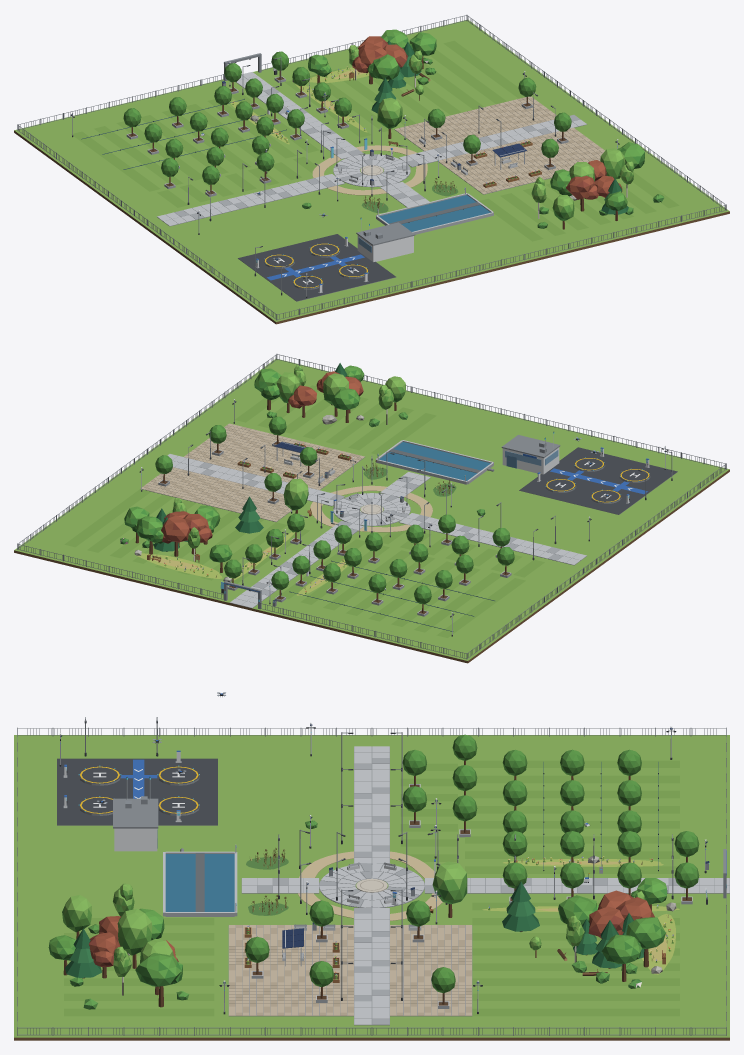
File: Park_Level3_EfficiencySkewed.fbx
3 renders of one model, top to bottom at view 1: azimuth 30°, elevation 25°; view 2: azimuth 150°, elevation 25°; view 3: azimuth 270°, elevation 25°, orthographic. The views are drawn at different scales.
Parts seen in each view (by area): view 1: Park_LV_Ground_01, Park_LV_Basin_Water_01, Park_LV_Plaza_Ring, Park_LV_ServicePavilion_01, Park_LV_Rest_South_02, Park_LV_Lawn_SouthWest_02, Park_LV_Rest_South_01, Park_LV_Rest_South_03, Park_LV_Lawn_SouthEast_05, Park_LV_Basin_01, Park_LV_Lawn_SouthEast_06, Park_LV_Yard_Core_02 (+38 smaller); view 2: Park_LV_Ground_01, Park_LV_Basin_Water_01, Park_LV_ServicePavilion_01, Park_LV_Plaza_Ring, Park_LV_Rest_South_02, Park_LV_Rest_South_01, Park_LV_Basin_01, Park_LV_Lawn_SouthEast_01, Park_LV_Lawn_SouthEast_05, Park_LV_Lawn_SouthEast_06, Park_LV_Lawn_SouthWest_01, Park_LV_Yard_Core_02 (+35 smaller); view 3: Park_LV_Ground_01, Park_LV_Basin_Water_01, Park_LV_Plaza_Ring, Park_LV_Lawn_SouthWest_02, Park_LV_Lawn_SouthWest_01, Park_LV_ServicePavilion_01, Park_LV_Rest_South_01, Park_LV_Rest_South_03, Park_LV_Rest_South_02, Park_LV_Rest_North_02, Park_LV_Lawn_SouthWest_04, Park_LV_Lawn_SouthEast_02 (+58 smaller).
Boxes of the visible parts, left/top/right/bottom form: Park_LV_Ground_01: left=14, top=20, right=729, bottom=324; Park_LV_Basin_Water_01: left=379, top=195, right=490, bottom=231; Park_LV_Plaza_Ring: left=333, top=154, right=410, bottom=187; Park_LV_ServicePavilion_01: left=356, top=222, right=415, bottom=261; Park_LV_Rest_South_02: left=445, top=107, right=514, bottom=137; Park_LV_Lawn_SouthWest_02: left=436, top=68, right=525, bottom=109; Park_LV_Rest_South_01: left=485, top=96, right=556, bottom=128; Park_LV_Rest_South_03: left=394, top=121, right=465, bottom=151; Park_LV_Lawn_SouthEast_05: left=71, top=121, right=161, bottom=162; Park_LV_Basin_01: left=376, top=187, right=493, bottom=234; Park_LV_Lawn_SouthEast_06: left=110, top=150, right=200, bottom=191; Park_LV_Yard_Core_02: left=265, top=269, right=346, bottom=301; Park_LV_Ground_01: left=14, top=359, right=729, bottom=663; Park_LV_Basin_Water_01: left=379, top=442, right=490, bottom=480; Park_LV_ServicePavilion_01: left=501, top=435, right=560, bottom=474; Park_LV_Plaza_Ring: left=333, top=493, right=410, bottom=526; Park_LV_Rest_South_02: left=186, top=478, right=260, bottom=510; Park_LV_Rest_South_01: left=140, top=467, right=215, bottom=499; Park_LV_Basin_01: left=376, top=440, right=494, bottom=484; Park_LV_Lawn_SouthEast_01: left=279, top=568, right=368, bottom=610; Park_LV_Lawn_SouthEast_05: left=395, top=597, right=486, bottom=637; Park_LV_Lawn_SouthEast_06: left=435, top=568, right=525, bottom=609; Park_LV_Lawn_SouthWest_01: left=64, top=517, right=146, bottom=558; Park_LV_Yard_Core_02: left=601, top=459, right=677, bottom=494; Park_LV_Ground_01: left=14, top=735, right=729, bottom=1040; Park_LV_Basin_Water_01: left=165, top=854, right=234, bottom=911; Park_LV_Plaza_Ring: left=319, top=863, right=424, bottom=907; Park_LV_Lawn_SouthWest_02: left=472, top=978, right=575, bottom=1016; Park_LV_Lawn_SouthWest_01: left=576, top=978, right=679, bottom=1016; Park_LV_ServicePavilion_01: left=113, top=796, right=158, bottom=851; Park_LV_Rest_South_01: left=390, top=985, right=472, bottom=1016; Park_LV_Rest_South_03: left=390, top=925, right=472, bottom=955; Park_LV_Rest_South_02: left=390, top=955, right=472, bottom=985; Park_LV_Rest_North_02: left=228, top=985, right=291, bottom=1016; Park_LV_Lawn_SouthWest_04: left=472, top=937, right=574, bottom=970; Park_LV_Lawn_SouthEast_02: left=465, top=836, right=571, bottom=873.
Size of the model in its own units: 100 by 12.9 by 100.
